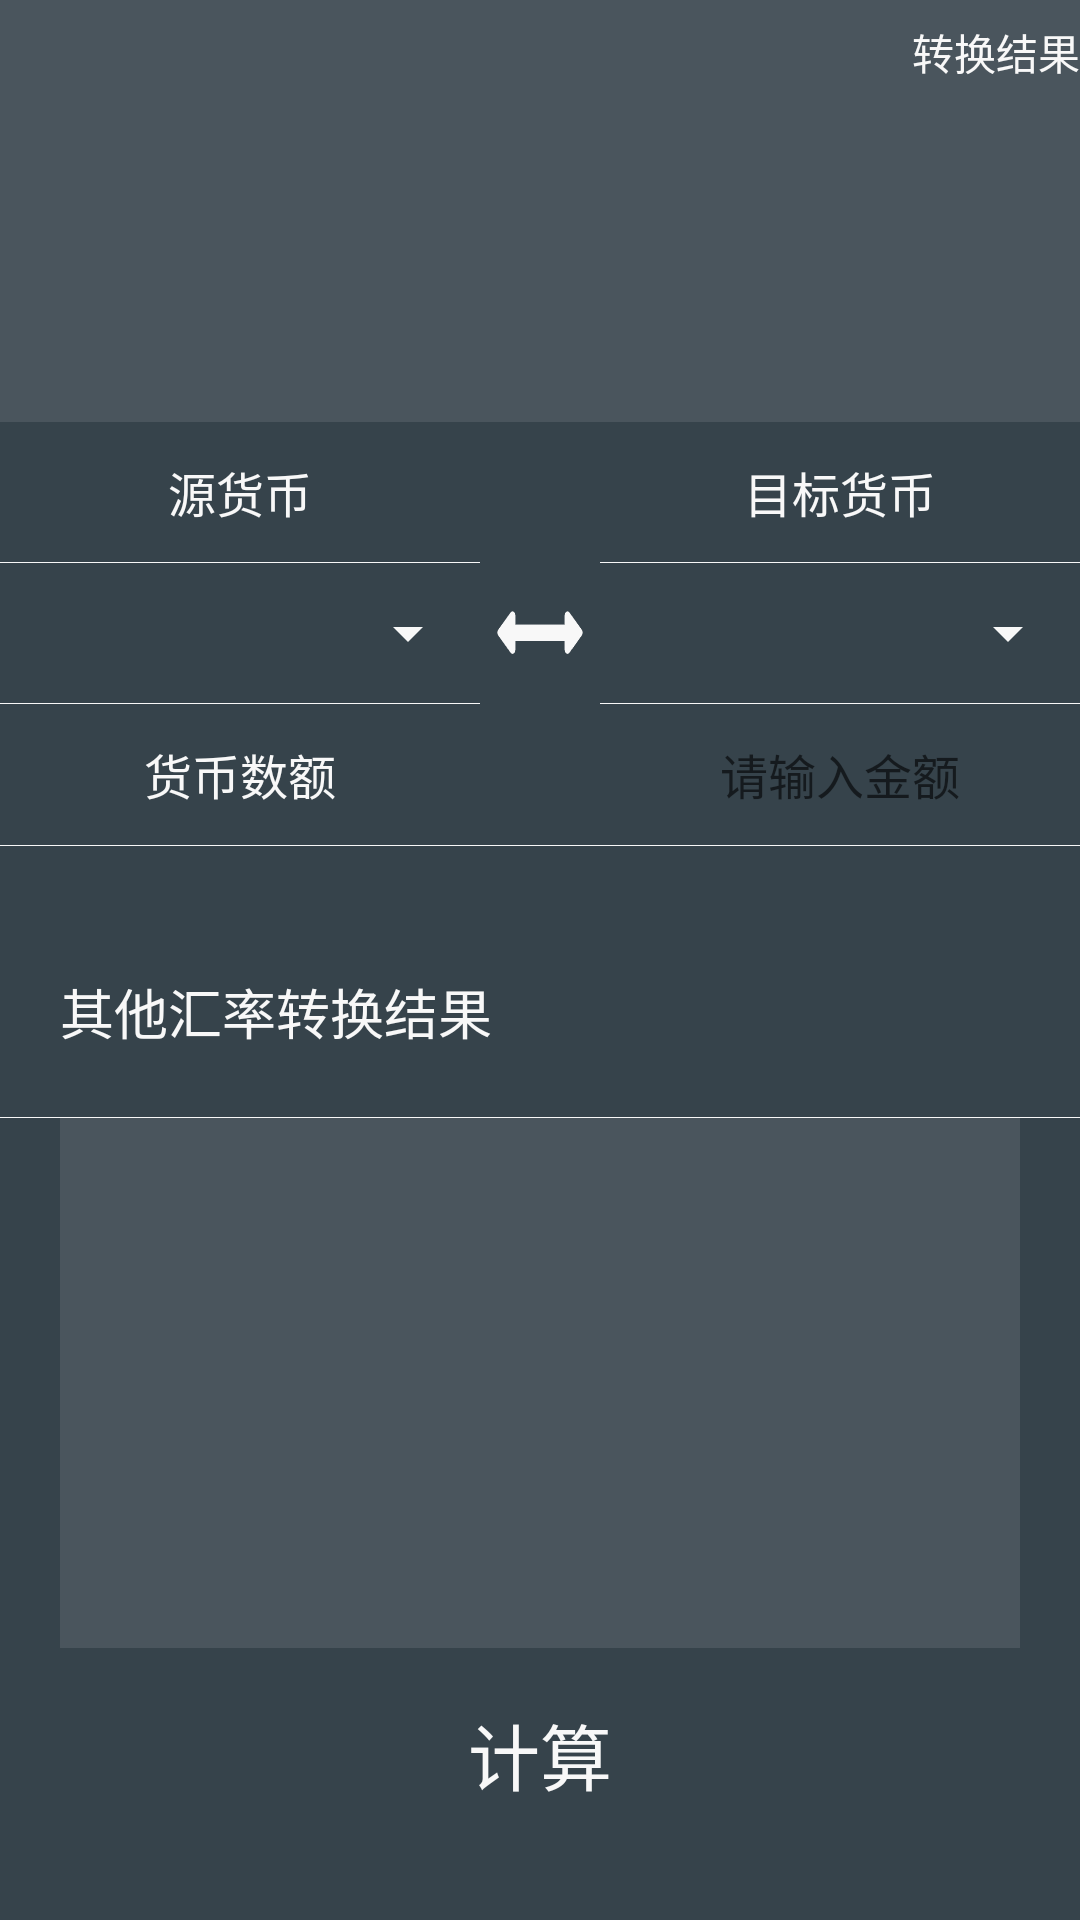

Screen size 1080*1920. Icon name, then its box in pixels as [x1, y1, x2, y2]:
rate exchange: [497, 611, 583, 654]
